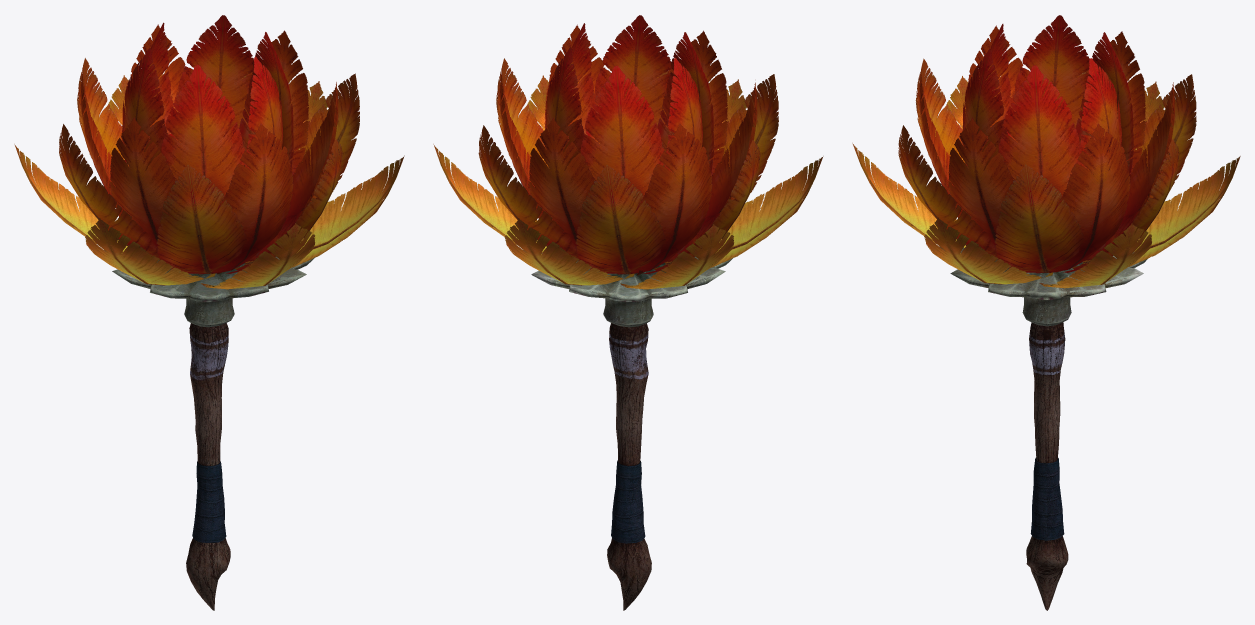
The model's file is ham009.obj.
3 renders of one model, left to right at view 1: azimuth 30°, elevation 25°; view 2: azimuth 150°, elevation 25°; view 3: azimuth 270°, elevation 25°, orthographic.
Visible parts, largest first — view 1: ham009_009_LOD_1, ham009_007_LOD_1, ham009_005_LOD_1, ham009_003_LOD_1, ham009_000_LOD_1, ham009_001_LOD_1, ham009_008_LOD_1, ham009_006_LOD_1, ham009_004_LOD_1, ham009_002_LOD_1; view 2: ham009_009_LOD_1, ham009_007_LOD_1, ham009_005_LOD_1, ham009_003_LOD_1, ham009_000_LOD_1, ham009_001_LOD_1, ham009_008_LOD_1, ham009_006_LOD_1, ham009_004_LOD_1, ham009_002_LOD_1; view 3: ham009_009_LOD_1, ham009_007_LOD_1, ham009_005_LOD_1, ham009_003_LOD_1, ham009_000_LOD_1, ham009_001_LOD_1, ham009_008_LOD_1, ham009_006_LOD_1, ham009_004_LOD_1, ham009_002_LOD_1.
Boxes of the visible parts, <box> form: ham009_009_LOD_1: <box>122,15,293,274</box>; ham009_007_LOD_1: <box>80,24,338,274</box>; ham009_005_LOD_1: <box>59,36,359,273</box>; ham009_003_LOD_1: <box>14,75,404,289</box>; ham009_000_LOD_1: <box>186,323,230,610</box>; ham009_001_LOD_1: <box>104,250,315,327</box>; ham009_008_LOD_1: <box>123,17,293,207</box>; ham009_006_LOD_1: <box>83,27,337,268</box>; ham009_004_LOD_1: <box>59,63,359,271</box>; ham009_002_LOD_1: <box>16,75,393,285</box>; ham009_009_LOD_1: <box>545,15,714,275</box>; ham009_007_LOD_1: <box>499,24,757,274</box>; ham009_005_LOD_1: <box>478,34,778,274</box>; ham009_003_LOD_1: <box>433,75,823,289</box>; ham009_000_LOD_1: <box>607,323,651,610</box>; ham009_001_LOD_1: <box>523,250,733,327</box>; ham009_008_LOD_1: <box>546,15,713,202</box>; ham009_006_LOD_1: <box>501,26,757,267</box>; ham009_004_LOD_1: <box>479,62,778,273</box>; ham009_002_LOD_1: <box>435,76,817,284</box>; ham009_009_LOD_1: <box>962,15,1133,251</box>; ham009_007_LOD_1: <box>919,25,1174,273</box>; ham009_005_LOD_1: <box>898,34,1196,272</box>; ham009_003_LOD_1: <box>853,76,1240,288</box>; ham009_000_LOD_1: <box>1026,322,1068,610</box>; ham009_001_LOD_1: <box>939,246,1147,326</box>; ham009_008_LOD_1: <box>963,15,1133,192</box>; ham009_006_LOD_1: <box>921,27,1174,267</box>; ham009_004_LOD_1: <box>899,51,1195,269</box>; ham009_002_LOD_1: <box>855,79,1234,283</box>.
Bounding box in the file's own units: 120 × 215 × 133.
